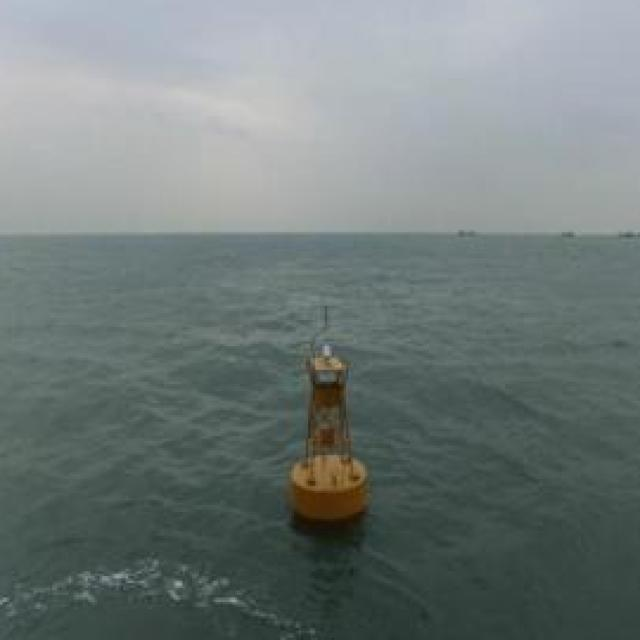buoy: (289, 328, 376, 525)
